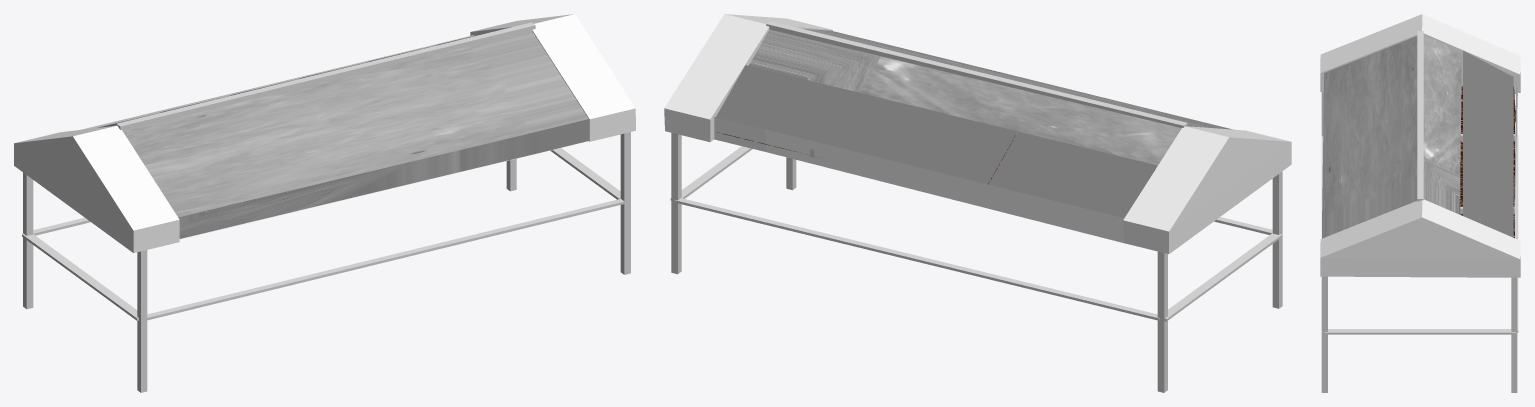
File: dryingtunnel.glb
3 views of the same model, side by side, from view 1: azimuth 30°, elevation 25°; view 2: azimuth 150°, elevation 25°; view 3: azimuth 270°, elevation 25° (orthographic). The views are drawn at different scales.
Parts seen in each view (by area): view 1: Cube.001, Cube, Cube.018, Cube.013, Cube.010, Cube.012, Cube.009, Cube.016, Cube.015; view 2: Cube, Cube.001, Cube.003, Cube.005, Cube.007, Cube.004, Cube.006, Cube.008, Cube.018, Cube.014, Cube.009, Cube.011 (+3 smaller); view 3: Cube.001, Cube, Cube.003, Cube.004, Cube.005, Cube.007, Cube.006, Cube.008, Cube.018, Cube.015, Cube.012, Cube.011 (+2 smaller).
Boxes of the visible parts, x1,y1,x2,y2 form: Cube.001: [123, 31, 588, 238]; Cube: [14, 14, 635, 252]; Cube.018: [116, 22, 535, 130]; Cube.013: [145, 199, 627, 320]; Cube.010: [137, 250, 147, 392]; Cube.012: [620, 132, 630, 274]; Cube.009: [23, 172, 33, 309]; Cube.016: [22, 233, 138, 320]; Cube.015: [550, 148, 620, 199]; Cube: [664, 14, 1291, 253]; Cube.001: [749, 28, 1232, 168]; Cube.003: [988, 131, 1087, 201]; Cube.005: [919, 114, 1017, 184]; Cube.007: [782, 81, 880, 150]; Cube.004: [1058, 148, 1157, 217]; Cube.006: [851, 98, 948, 166]; Cube.008: [716, 65, 811, 133]; Cube.018: [766, 21, 1187, 127]; Cube.014: [674, 198, 1159, 320]; Cube.009: [1157, 251, 1167, 392]; Cube.011: [671, 133, 681, 274]; Cube.001: [1322, 34, 1461, 238]; Cube: [1320, 14, 1520, 277]; Cube.003: [1463, 78, 1513, 132]; Cube.004: [1463, 51, 1513, 104]; Cube.005: [1463, 107, 1513, 160]; Cube.007: [1463, 162, 1513, 215]; Cube.006: [1463, 135, 1513, 187]; Cube.008: [1463, 190, 1513, 237]; Cube.018: [1417, 31, 1423, 201]; Cube.015: [1325, 329, 1516, 334]; Cube.012: [1321, 276, 1327, 392]; Cube.011: [1511, 277, 1517, 392].
Bounding box in the file's own units: 19.51 × 7.97 × 8.11.
Materials: 4 (2 with a texture image).
